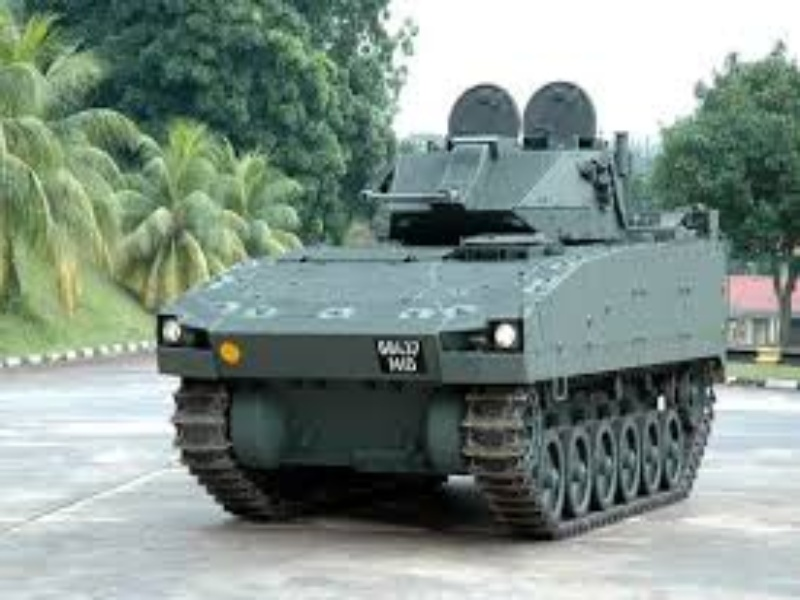tank: (159, 82, 731, 544)
